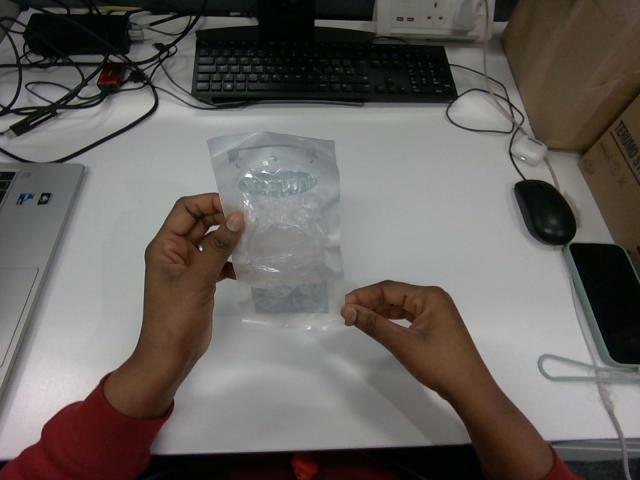gallipot: (208, 132, 343, 328)
